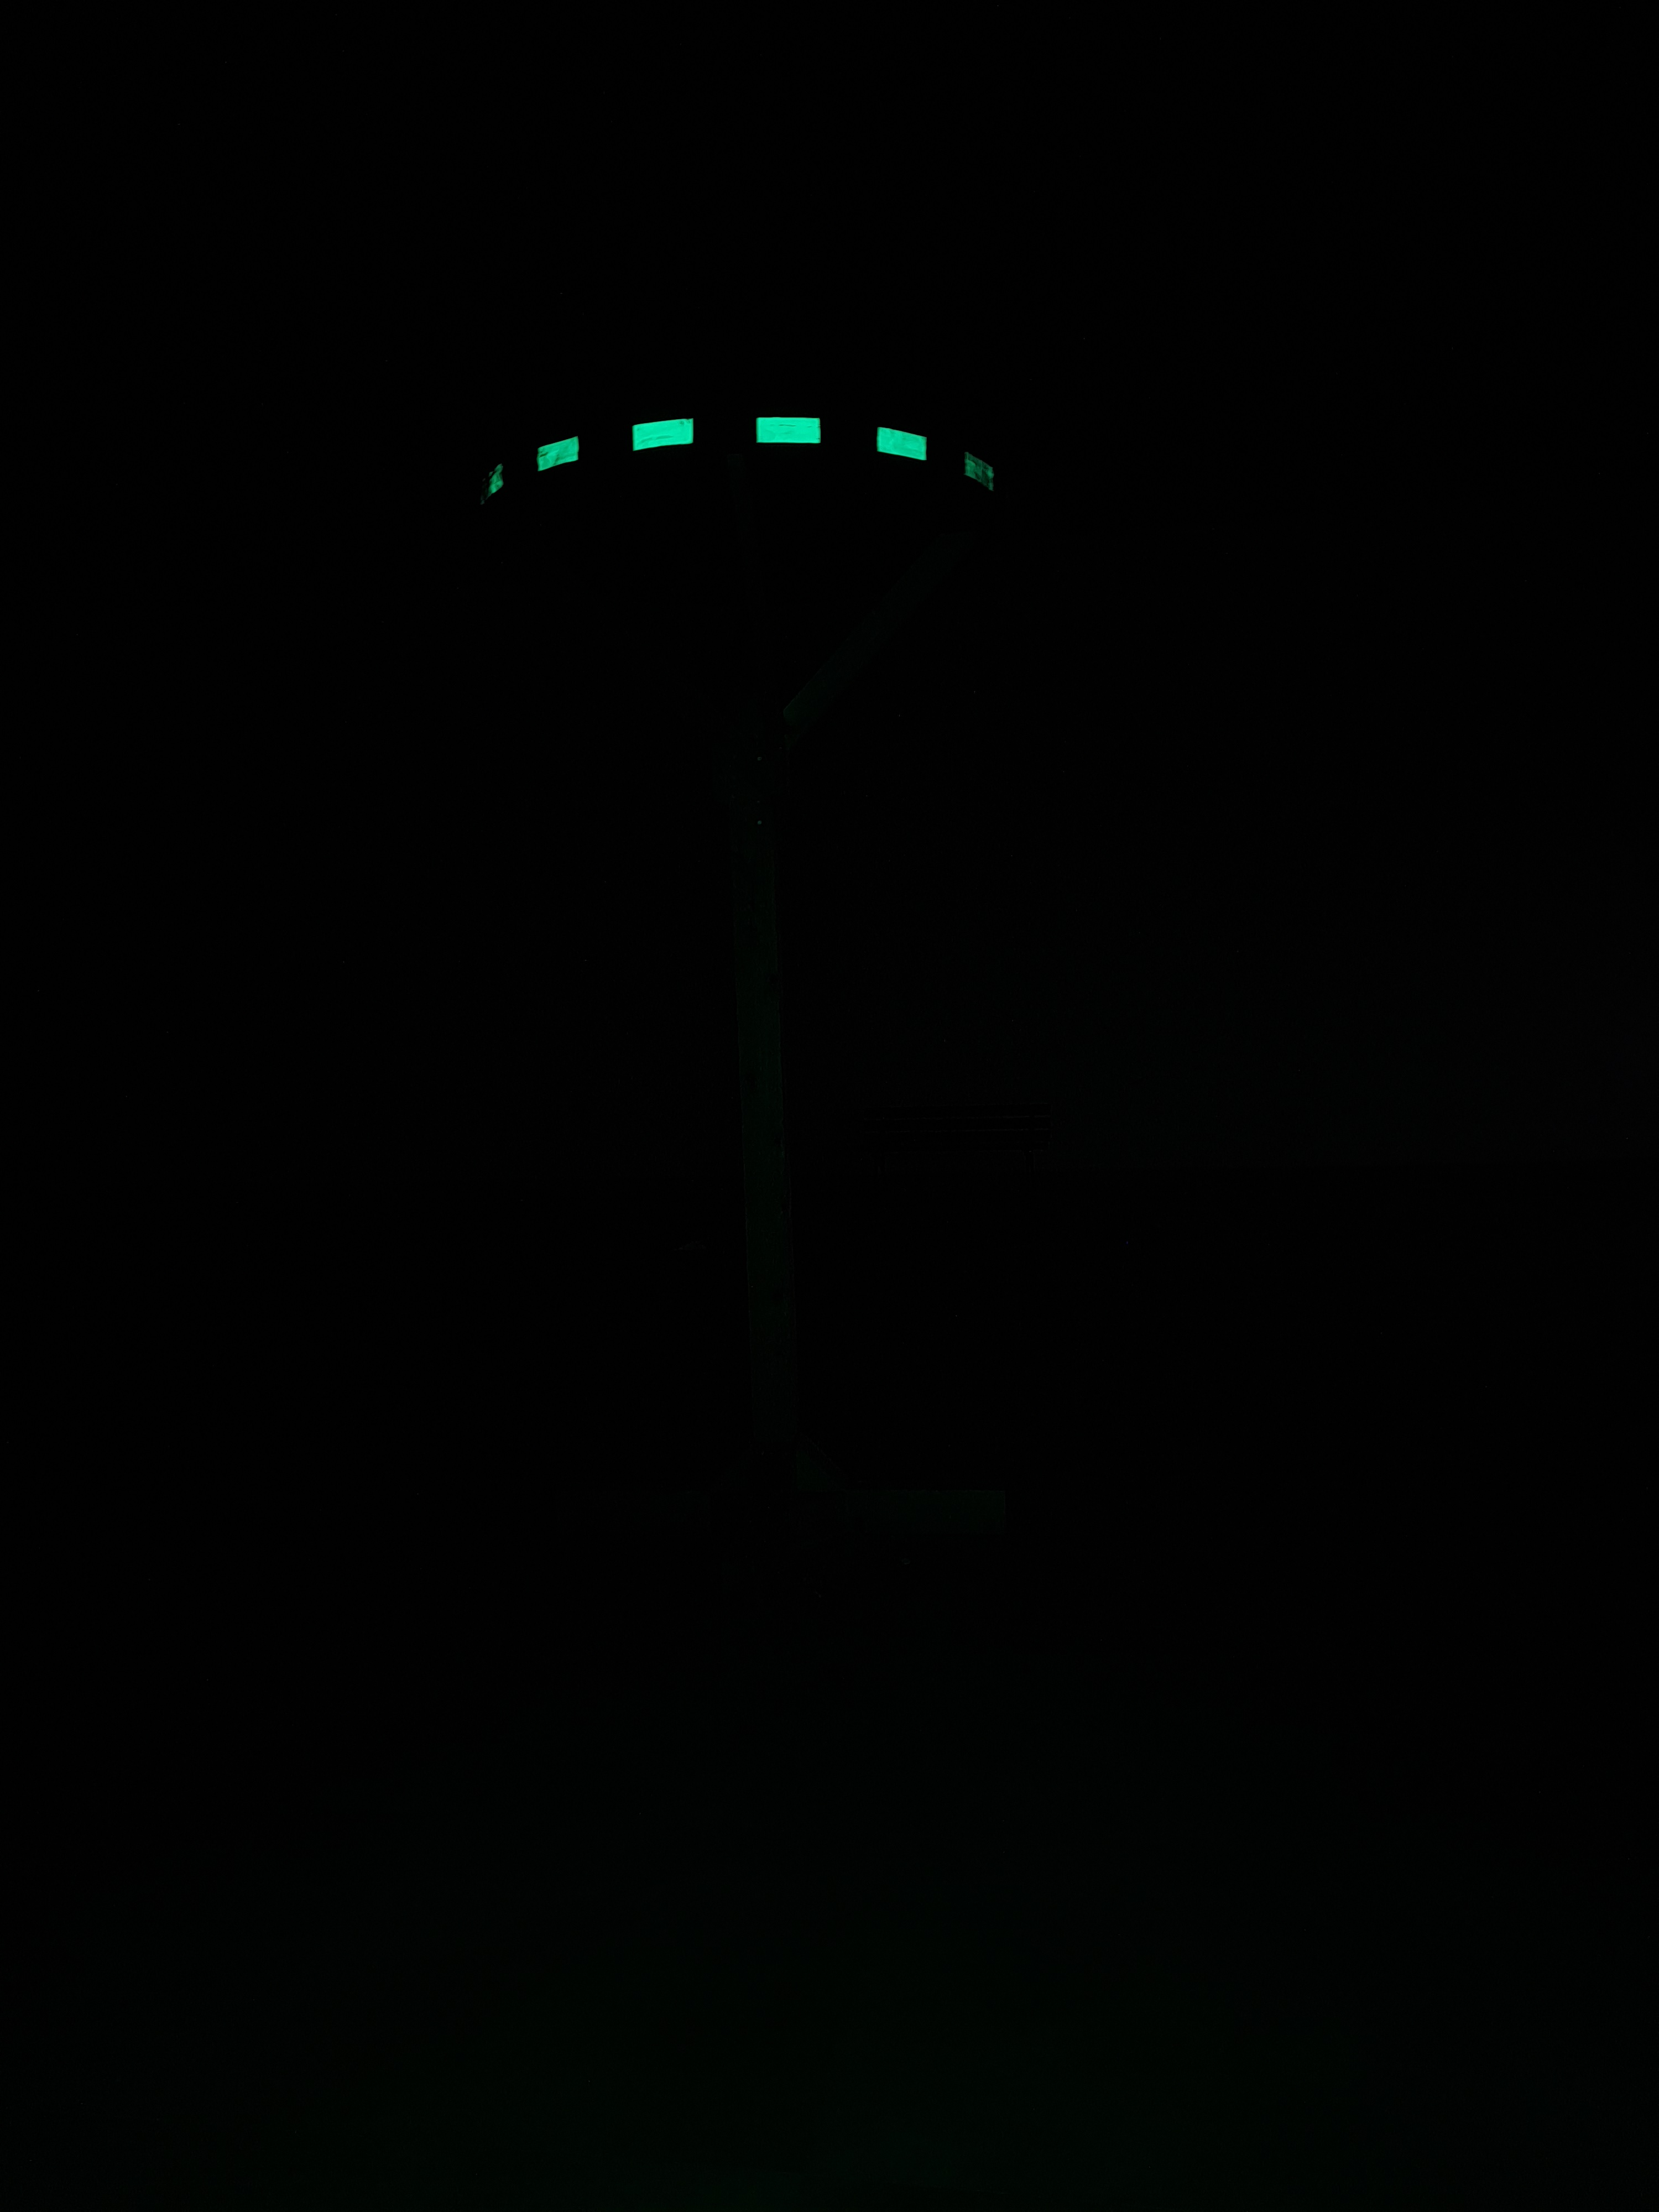hoop: (474, 402, 1006, 517)
